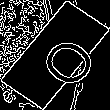O_NW: (18, 23, 92, 87)
